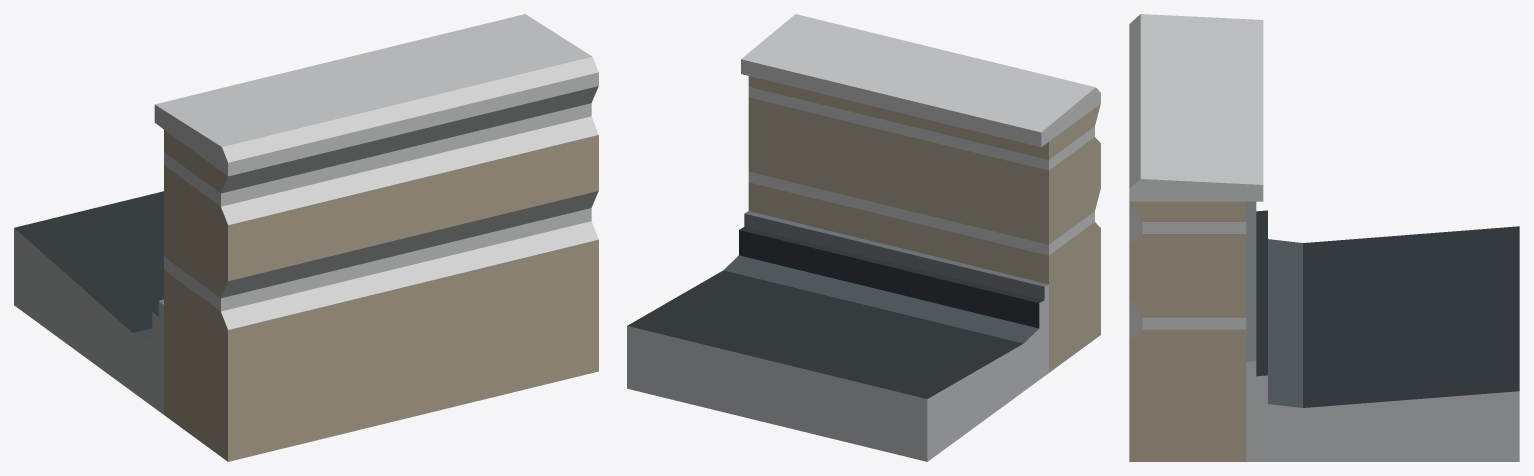
File: flat-roof-parapet-edge-3a33f0.glb
3 renders of one model, left to right at view 1: azimuth 30°, elevation 25°; view 2: azimuth 150°, elevation 25°; view 3: azimuth 270°, elevation 25°, orthographic. The views are drawn at different scales.
Visible parts, largest first — view 1: flat-roof-parapet-edge; view 2: flat-roof-parapet-edge; view 3: flat-roof-parapet-edge.
Part boxes in pixels (x1,y1,x2,y2): flat-roof-parapet-edge: (14, 14, 598, 461); flat-roof-parapet-edge: (627, 14, 1100, 461); flat-roof-parapet-edge: (1129, 14, 1519, 461).
Size of the model in its own units: 1 by 0.8 by 1.
